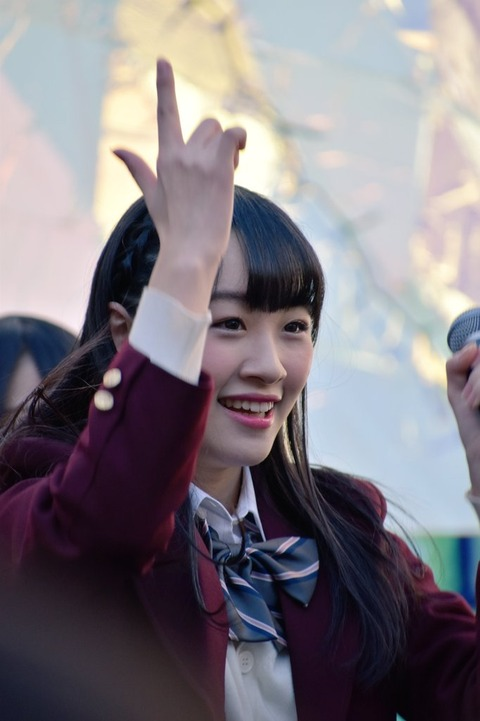face: (200, 221, 315, 461)
hand: (109, 51, 247, 277)
